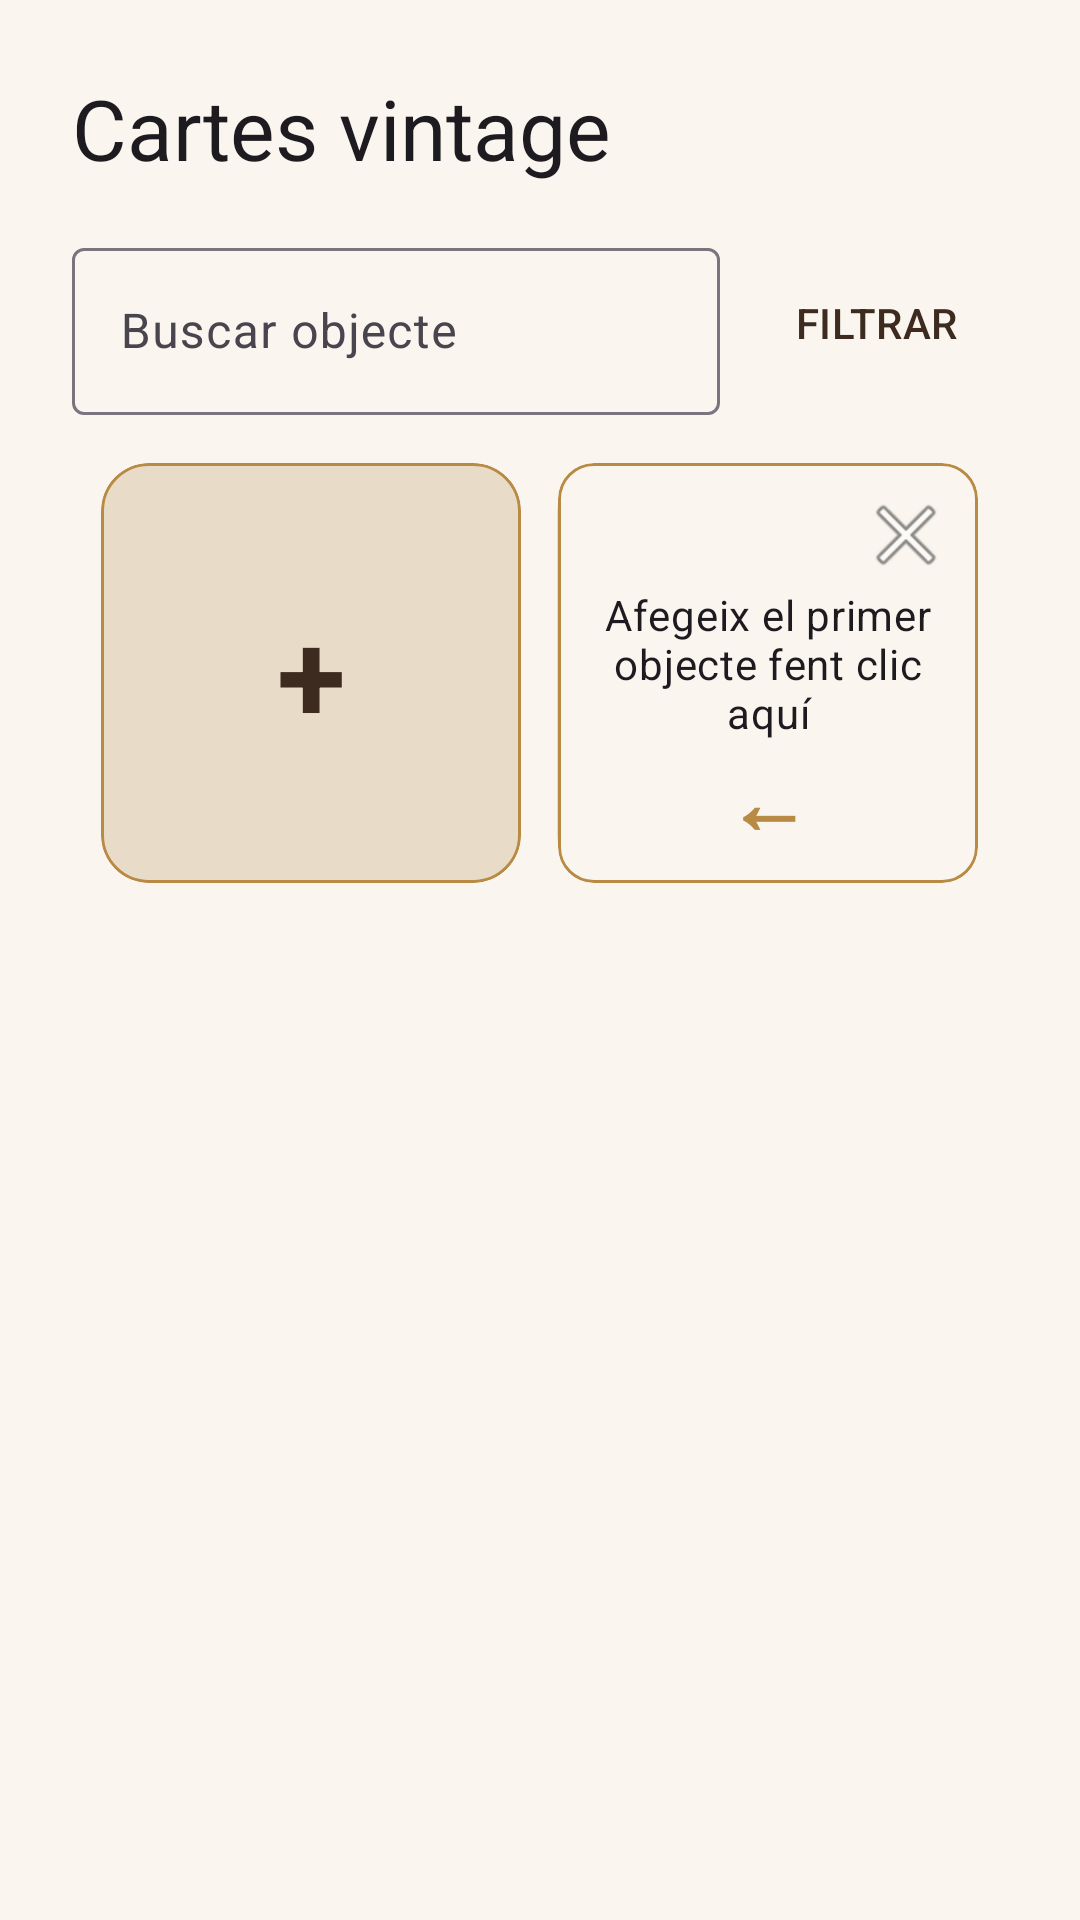

Icon click points for this 1080×1920 phone screenshot, format [x,y]:
Tancar: [906,535]
